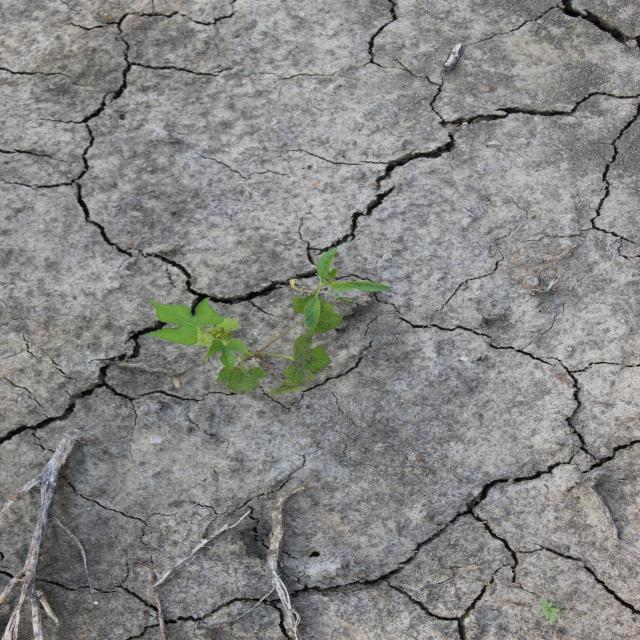MorningGlory: (140, 290, 348, 397)
Waterhemp: (288, 244, 392, 332)
